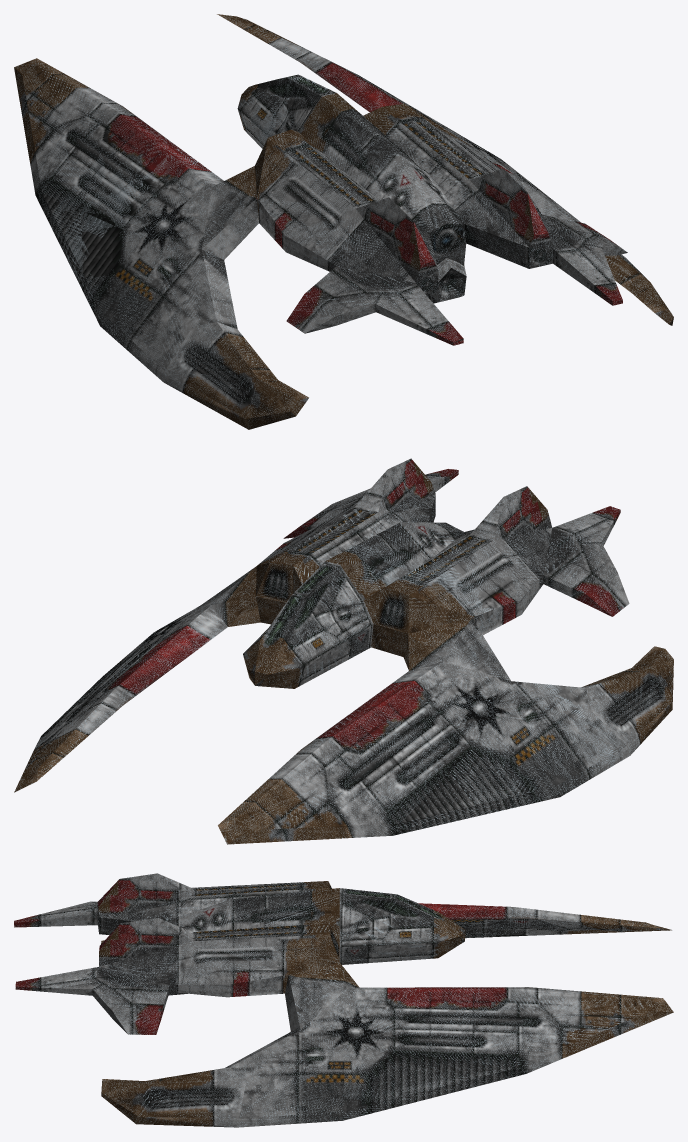
3 renders of one model, top to bottom at view 1: azimuth 30°, elevation 25°; view 2: azimuth 150°, elevation 25°; view 3: azimuth 270°, elevation 25°, orthographic. The views are drawn at different scales.
Visible parts, largest first — view 1: shroud.3db; view 2: shroud.3db; view 3: shroud.3db.
Part boxes in pixels (x1,y1,x2,y2): shroud.3db: (14, 14, 673, 429); shroud.3db: (14, 458, 673, 844); shroud.3db: (14, 873, 673, 1127).
Size of the model in its own units: 14.08 by 21.75 by 5.47.
Materials: 2 (1 with a texture image).
